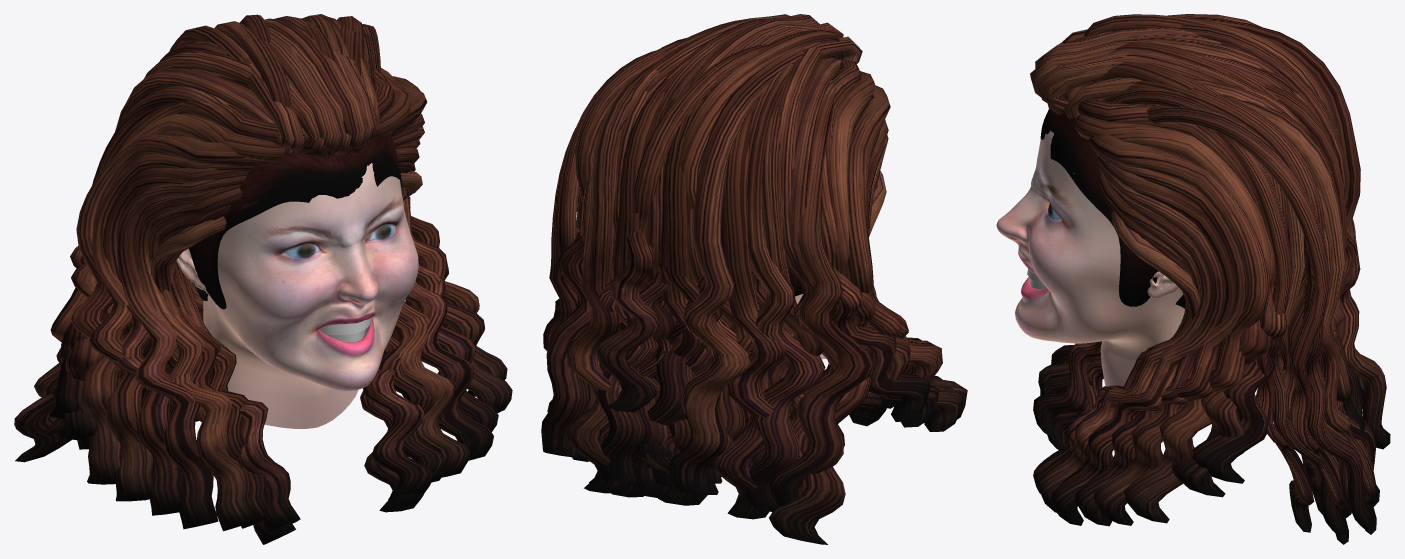
Rendered from anger.obj.
3 views of the same model, side by side, from view 1: azimuth 30°, elevation 25°; view 2: azimuth 150°, elevation 25°; view 3: azimuth 270°, elevation 25° (orthographic). The views are drawn at different scales.
Parts seen in each view (by area): view 1: anger; view 2: anger; view 3: anger.
Part boxes in pixels (box(x1,y1,x2,y2)): anger: box(14, 14, 512, 544); anger: box(541, 14, 967, 544); anger: box(996, 14, 1390, 544).
Bounding box in the file's own units: 365 × 387 × 298.
